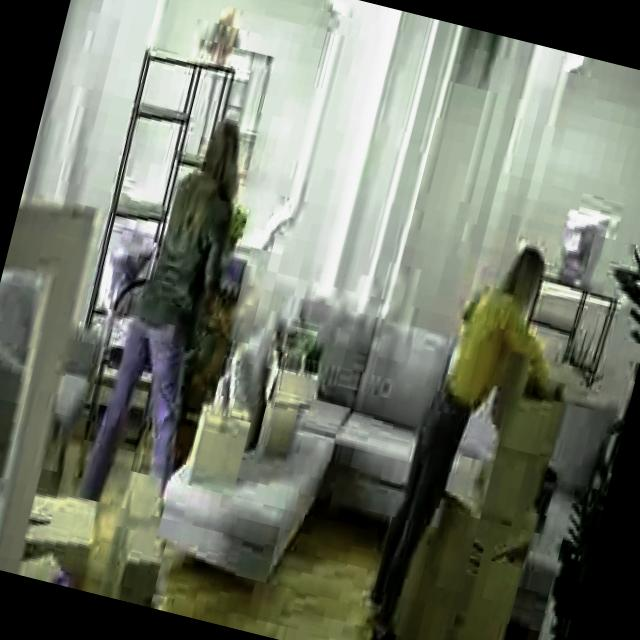Box: (411, 517, 527, 640), (103, 460, 182, 607), (180, 395, 260, 486), (20, 486, 108, 568), (471, 443, 546, 533), (482, 387, 564, 462), (256, 363, 316, 449)
